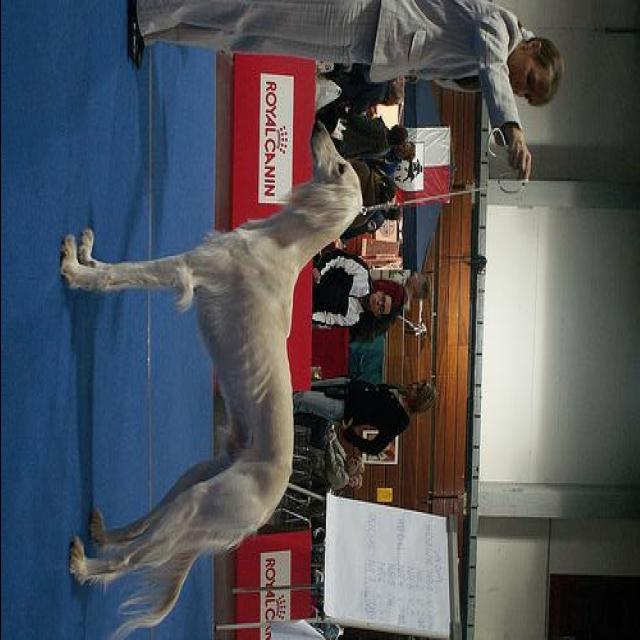saluki: (60, 121, 364, 637)
